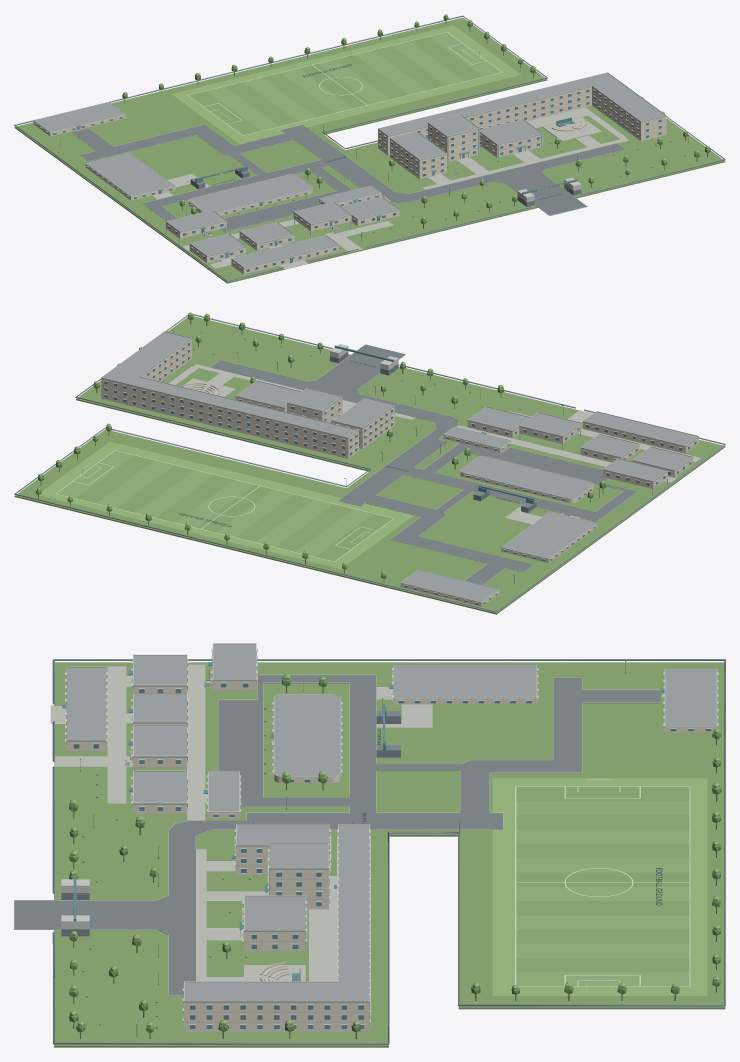
Rendered from MNMJEC_Campus_Web.glb.
3 renders of one model, top to bottom at view 1: azimuth 30°, elevation 25°; view 2: azimuth 150°, elevation 25°; view 3: azimuth 270°, elevation 25°, orthographic. The views are drawn at different scales.
Parts seen in each view (by area): view 1: CAMPUS_TERRAIN_BASE, C_FOOTBALL_TURF_STRIPES, ROAD_CENTRAL_AND_MAIN_ENTRANCE, FOOTBALL_GROUND, L_SHAPE_BLOCK_ROOF, ROAD_HOSTEL_TO_GROUND, C_MECHANICAL_BLOCK_PROVISIONAL_ROOF_CAP, BOUNDARY_WALL_1, C_MNM_SCHOOL_OF_ARCHITECTURE_PROVISIONAL_ROOF_CAP, L_SHAPE_BLOCK_FLOOR_2, ROAD_WEST_CROSS_CAMPUS, ROAD_MECHANICAL_SOUTH (+23 smaller); view 2: CAMPUS_TERRAIN_BASE, C_FOOTBALL_TURF_STRIPES, ROAD_CENTRAL_AND_MAIN_ENTRANCE, FOOTBALL_GROUND, L_SHAPE_BLOCK_ROOF, BOUNDARY_WALL_1, ROAD_HOSTEL_TO_GROUND, C_MECHANICAL_BLOCK_PROVISIONAL_ROOF_CAP, C_MNM_SCHOOL_OF_ARCHITECTURE_PROVISIONAL_ROOF_CAP, L_SHAPE_BLOCK_FLOOR_2, L_SHAPE_BLOCK_FLOOR_1, L_SHAPE_BLOCK_FLOOR_G (+21 smaller); view 3: CAMPUS_TERRAIN_BASE, C_FOOTBALL_TURF_STRIPES, ROAD_CENTRAL_AND_MAIN_ENTRANCE, FOOTBALL_GROUND, L_SHAPE_BLOCK_ROOF, ROAD_HOSTEL_TO_GROUND, C_MECHANICAL_BLOCK_PROVISIONAL_ROOF_CAP, BOUNDARY_WALL_1, C_MNM_SCHOOL_OF_ARCHITECTURE_PROVISIONAL_ROOF_CAP, ROAD_MECHANICAL_SOUTH, ROAD_WEST_CROSS_CAMPUS, C_BOYS_HOSTEL_PROVISIONAL_ROOF_CAP (+27 smaller).
Boxes of the visible parts, x1,y1,x2,y2 form: CAMPUS_TERRAIN_BASE: (14,17,725,283); C_FOOTBALL_TURF_STRIPES: (188,32,501,135); ROAD_CENTRAL_AND_MAIN_ENTRANCE: (281,125,623,215); FOOTBALL_GROUND: (171,25,521,143); L_SHAPE_BLOCK_ROOF: (378,73,666,136); ROAD_HOSTEL_TO_GROUND: (72,124,293,160); C_MECHANICAL_BLOCK_PROVISIONAL_ROOF_CAP: (189,174,312,212); BOUNDARY_WALL_1: (14,15,725,281); C_MNM_SCHOOL_OF_ARCHITECTURE_PROVISIONAL_ROOF_CAP: (86,153,173,196); L_SHAPE_BLOCK_FLOOR_2: (378,87,666,142); ROAD_WEST_CROSS_CAMPUS: (142,160,328,209); ROAD_MECHANICAL_SOUTH: (221,191,339,231); CAMPUS_TERRAIN_BASE: (14,316,725,614); C_FOOTBALL_TURF_STRIPES: (56,450,392,561); ROAD_CENTRAL_AND_MAIN_ENTRANCE: (210,345,457,505); FOOTBALL_GROUND: (37,441,413,569); L_SHAPE_BLOCK_ROOF: (101,332,358,438); BOUNDARY_WALL_1: (14,314,725,612); ROAD_HOSTEL_TO_GROUND: (366,495,533,584); C_MECHANICAL_BLOCK_PROVISIONAL_ROOF_CAP: (461,456,593,498); C_MNM_SCHOOL_OF_ARCHITECTURE_PROVISIONAL_ROOF_CAP: (502,512,596,558); L_SHAPE_BLOCK_FLOOR_2: (101,339,358,445); L_SHAPE_BLOCK_FLOOR_1: (101,346,358,452); L_SHAPE_BLOCK_FLOOR_G: (101,353,358,458); CAMPUS_TERRAIN_BASE: (54,662,725,1047); C_FOOTBALL_TURF_STRIPES: (516,787,689,986); ROAD_CENTRAL_AND_MAIN_ENTRANCE: (14,813,503,995); FOOTBALL_GROUND: (492,778,707,995); L_SHAPE_BLOCK_ROOF: (184,825,369,1002); ROAD_HOSTEL_TO_GROUND: (460,677,660,812); C_MECHANICAL_BLOCK_PROVISIONAL_ROOF_CAP: (274,694,340,776); BOUNDARY_WALL_1: (52,659,725,1044); C_MNM_SCHOOL_OF_ARCHITECTURE_PROVISIONAL_ROOF_CAP: (394,665,536,697); ROAD_MECHANICAL_SOUTH: (218,675,263,797); ROAD_WEST_CROSS_CAMPUS: (349,675,376,812); C_BOYS_HOSTEL_PROVISIONAL_ROOF_CAP: (665,668,716,725).
Bounding box in the file's own units: 274 × 14.27 × 214.
